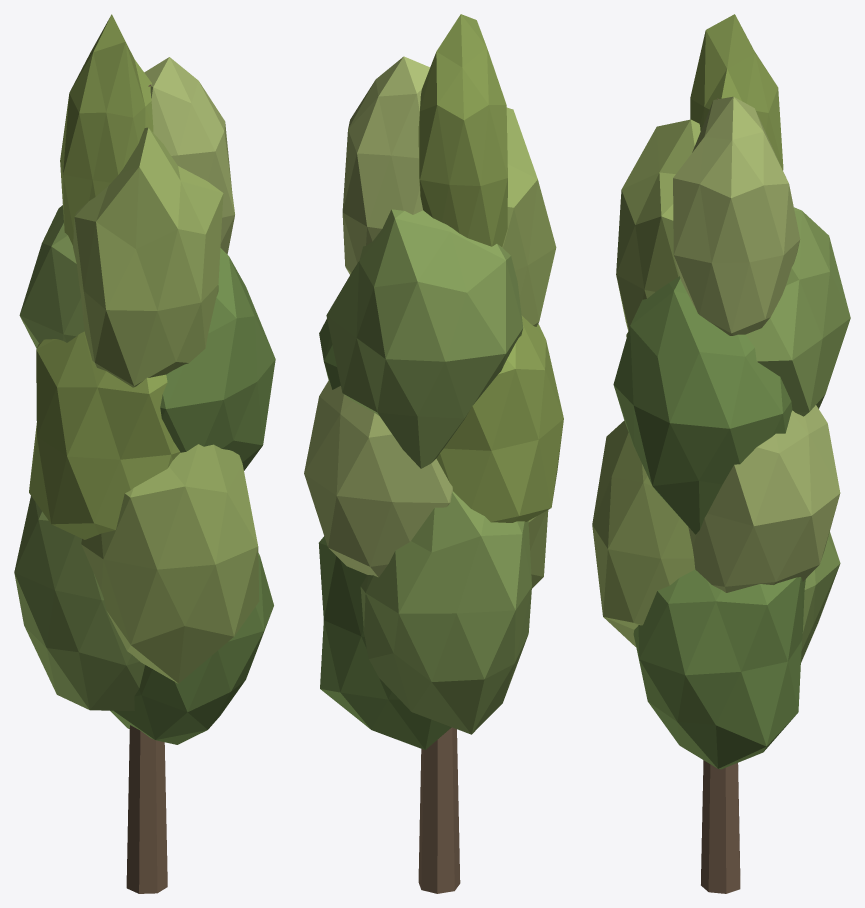
Rendered from ENV_Monza_Poplar_01.glb.
3 renders of one model, left to right at view 1: azimuth 30°, elevation 25°; view 2: azimuth 150°, elevation 25°; view 3: azimuth 270°, elevation 25°, orthographic. The views are drawn at different scales.
Visible parts, largest first — view 1: ENV_Monza_Poplar_01; view 2: ENV_Monza_Poplar_01; view 3: ENV_Monza_Poplar_01.
Part boxes in pixels (bbox=[...]): ENV_Monza_Poplar_01: bbox=[14, 14, 275, 893]; ENV_Monza_Poplar_01: bbox=[304, 14, 563, 893]; ENV_Monza_Poplar_01: bbox=[592, 14, 850, 893].
Size of the model in its own units: 4.28 by 16.36 by 4.47.
